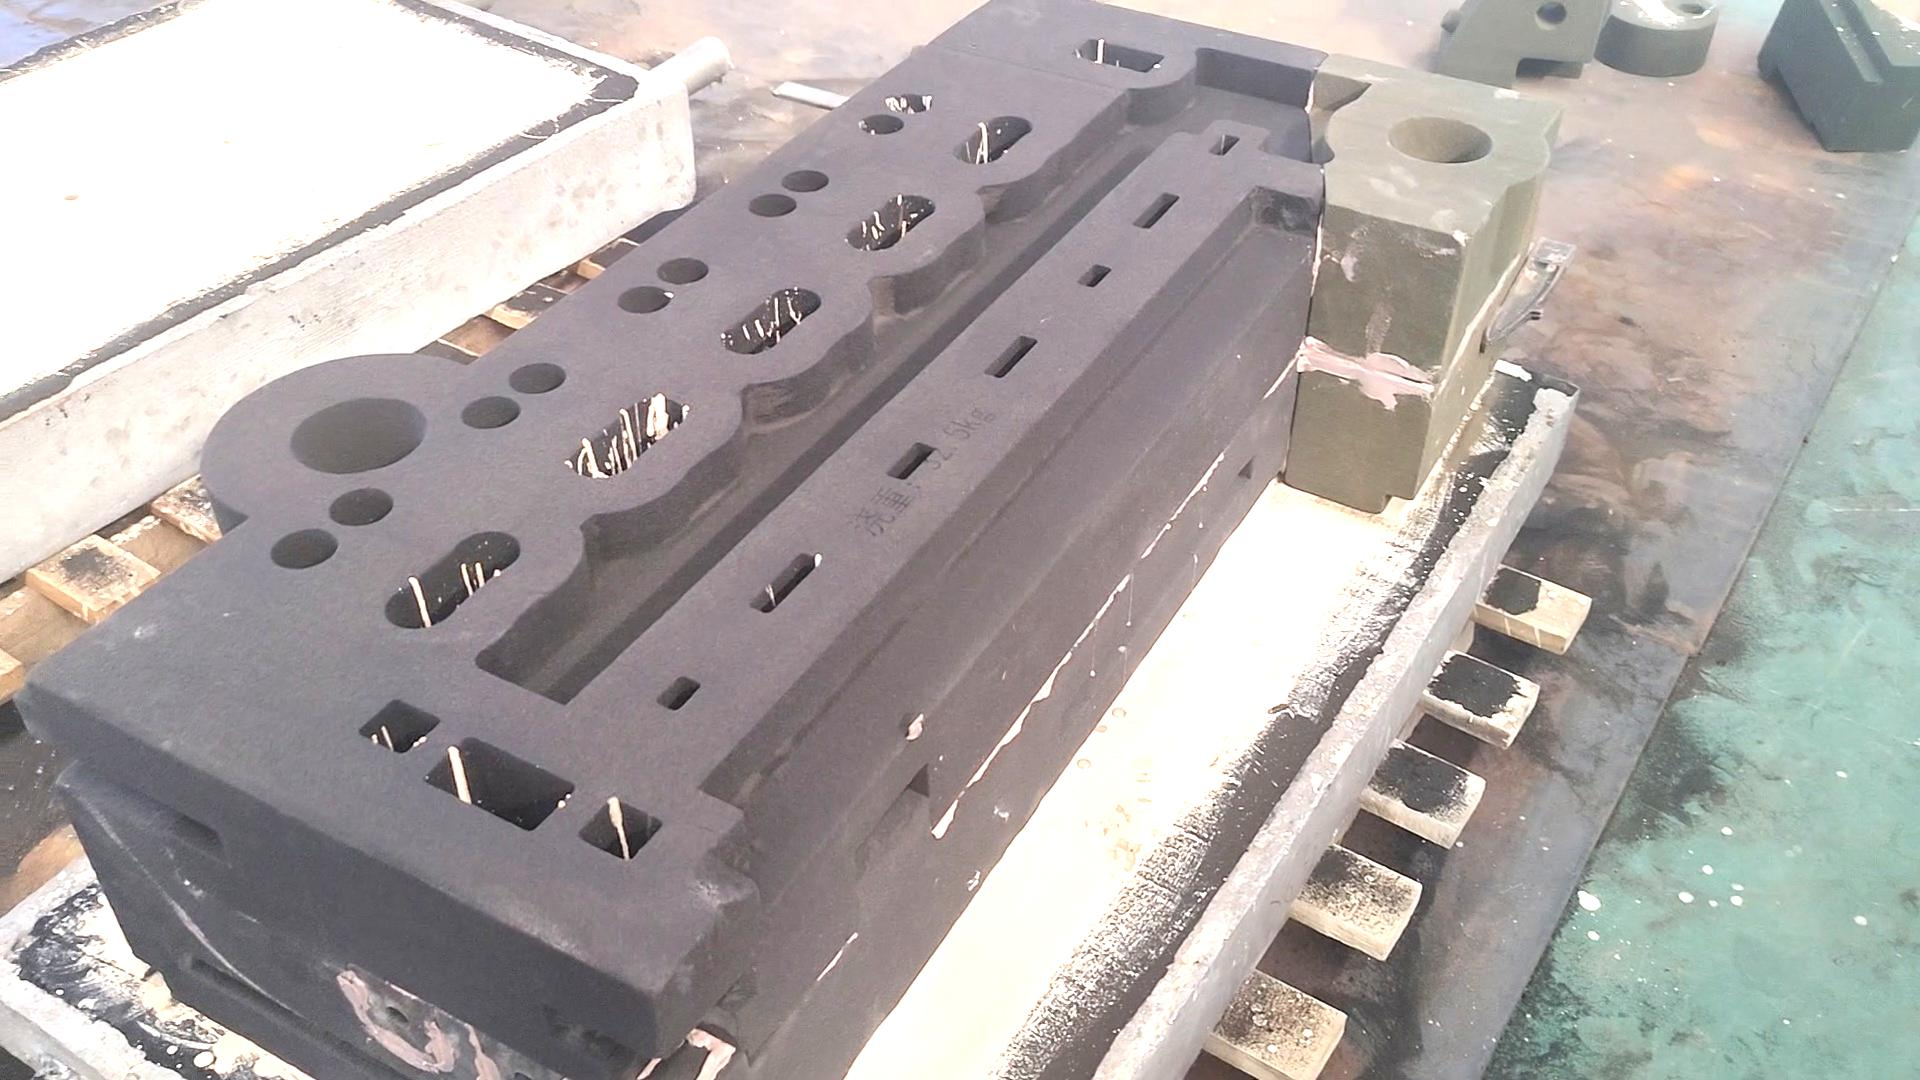pouring hole: (287, 396, 429, 475), (1385, 113, 1493, 165)
